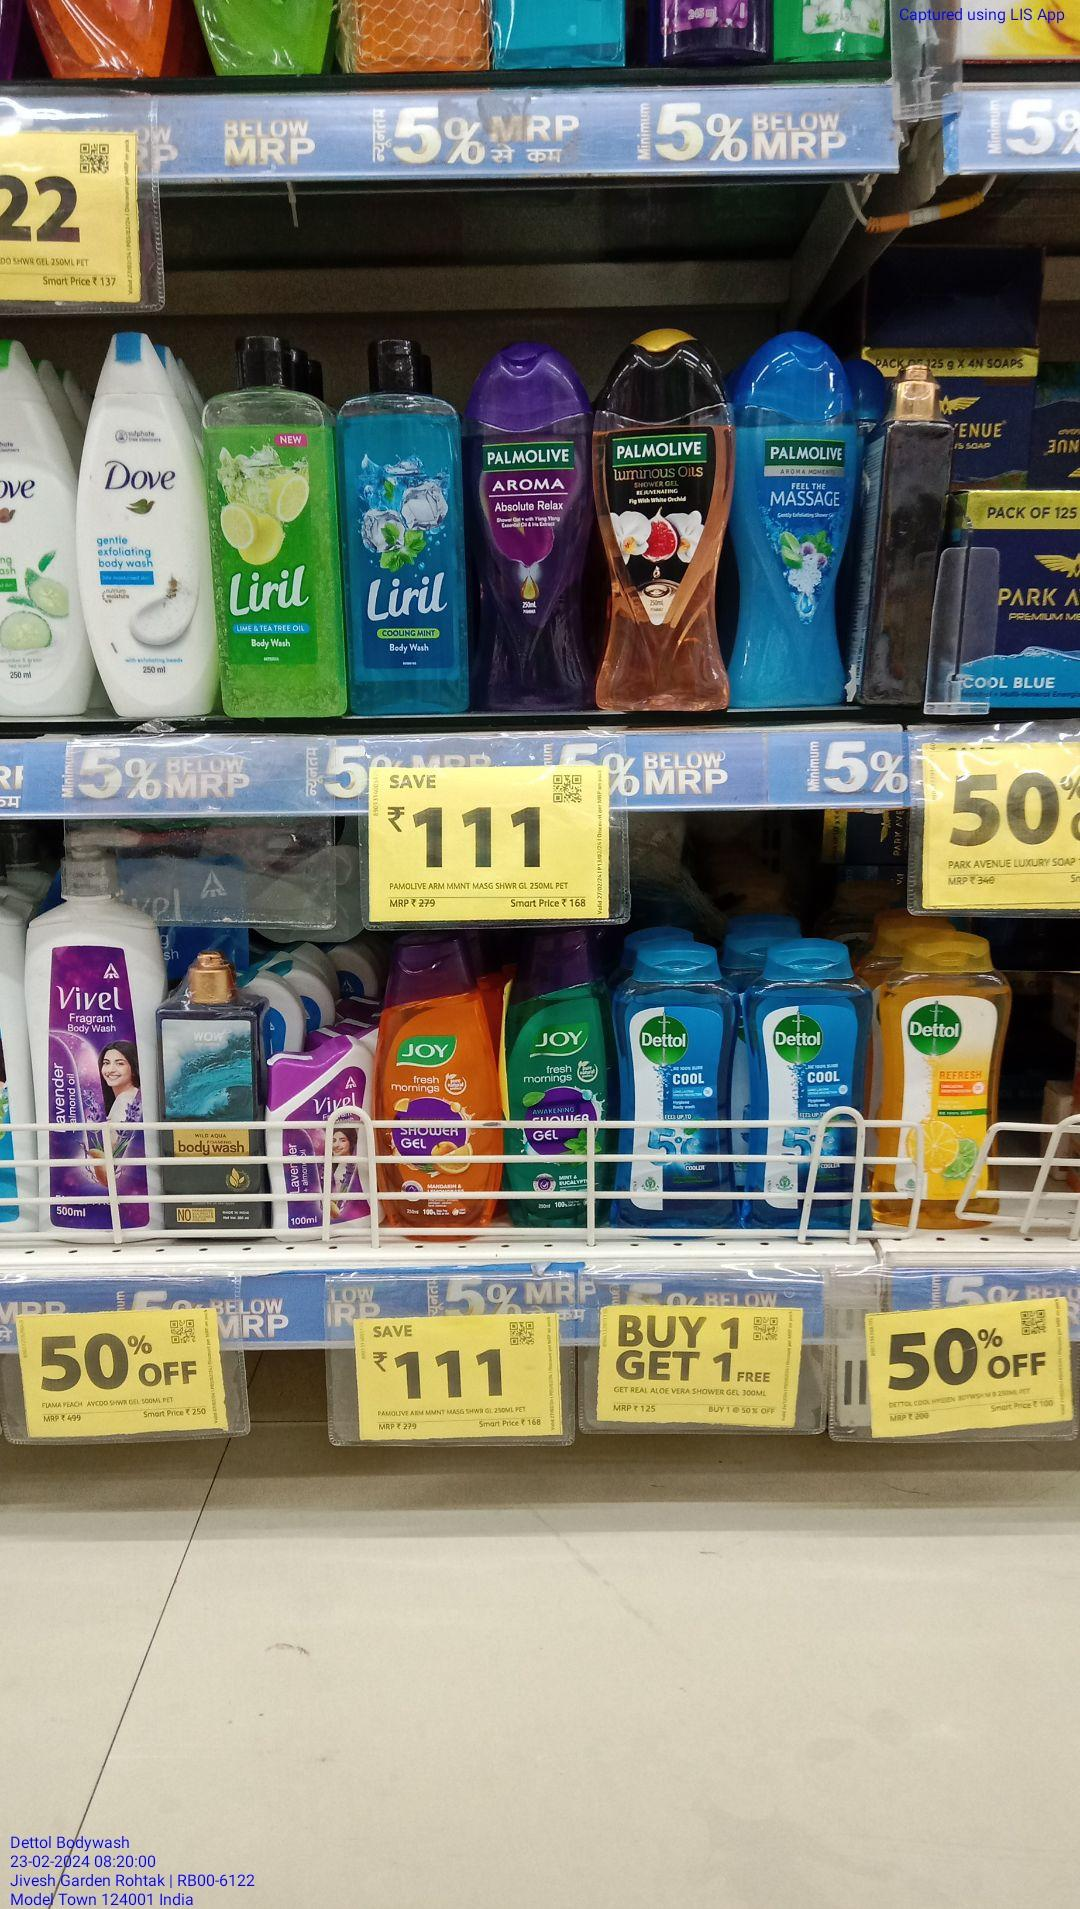Dettol_Bodywash_Cool: (746, 947, 882, 1239), (615, 948, 739, 1236)
Dettol_Bodywash_Refresh: (883, 935, 1004, 1231)
Dove_Gentle_Exfoliating_Body_Wash_250ML: (84, 313, 229, 725)
Dove_Refreshing_Body_Wash_250ML: (0, 317, 93, 722)
Joy_Shower_Gel_Mandarin_and_Lemongrass_250ML: (377, 935, 495, 1236)
Joy_Shower_Gel_Mint_and_Eucalyptus_250ML: (502, 926, 613, 1239)
Palmolive_Aroma_Moments_Feel_The_Massage_Shower_Gel_250ML: (735, 320, 855, 712)
Palmolive_Aroma_Relax_250ML: (469, 336, 587, 713)
Palmolive_Luminous_Oils_With_White_Orchid_Shower_Gel_250ML: (588, 326, 738, 718)
